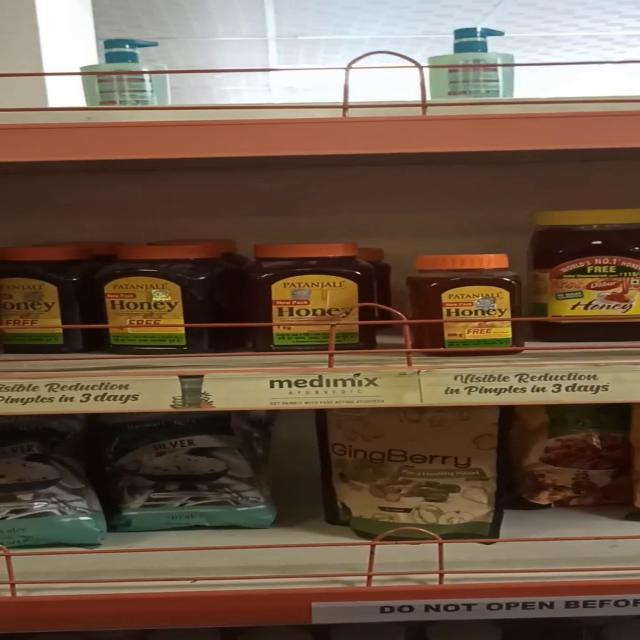Dabur Honey: (535, 211, 640, 342)
Patanjali Honey: (258, 247, 374, 351), (404, 250, 518, 352), (108, 248, 210, 352)
